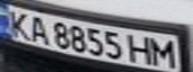5: (103, 29, 127, 61), (84, 26, 106, 57)
8: (48, 19, 72, 49), (66, 23, 87, 53)
A: (24, 14, 51, 44)
H: (127, 33, 157, 65)
K: (3, 7, 33, 39)
M: (151, 37, 178, 69)
